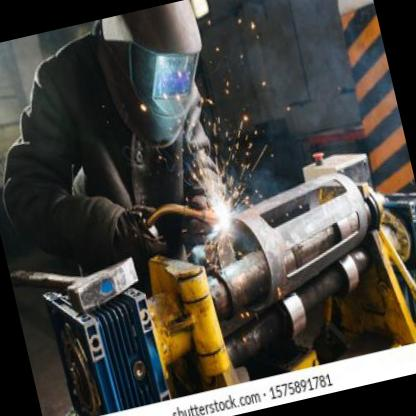Gloves: (170, 186, 230, 250), (110, 209, 168, 271)
